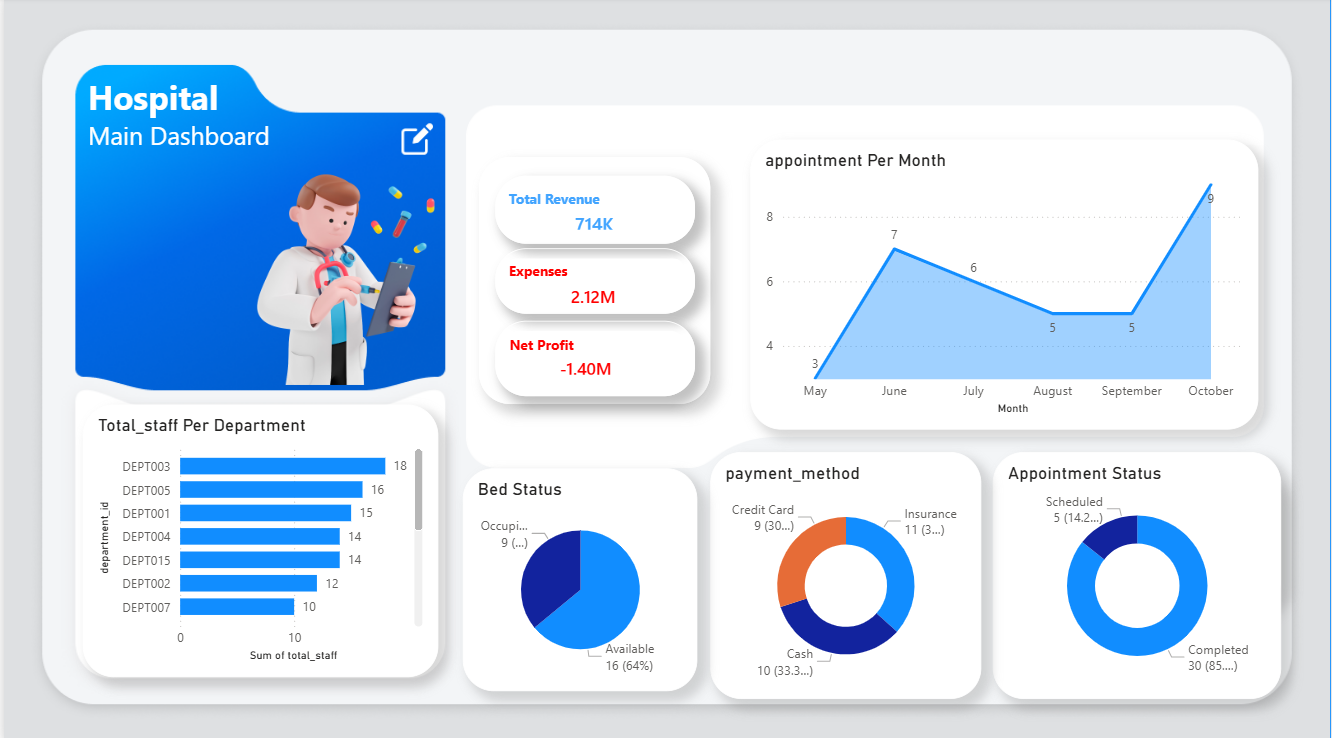

What the dashboard file says about the page in this screenshot:
{"tool":"powerbi","page":{"name":"Main","canvas":[1280,720],"ordinal":0},"visuals":[{"type":"textbox","box":[75.5,70,273.1,96.1],"z":0},{"type":"image","box":[378.7,122.1,39.8,30.2],"z":1000},{"type":"image","box":[183,159,299,215],"z":2000},{"type":"cardVisual","fields":{"Data":["Sum(patients.total_amount)"]},"box":[994.3,454.3,238.6,138.6],"z":4000},{"type":"donutChart","title":"Appointment Status","fields":{"Y":["CountNonNull(Appointment.status)"],"Category":["Appointment.status"]},"box":[954.3,438.6,278.6,238.6],"z":5000},{"type":"donutChart","title":"payment_method","fields":{"Category":["Appointment.payment_method"],"Y":["CountNonNull(Appointment.payment_method)"]},"box":[681.4,438.6,261.4,238.6],"z":6000},{"type":"areaChart","title":"appointment Per Month","fields":{"Y":["CountNonNull(Appointment.appointment_id)"],"Category":["Appointment.appointment_date.Variation.Date Hierarchy.Month"]},"box":[720,137.1,490,280],"z":7000},{"type":"barChart","title":"Total_staff Per Department","fields":{"Category":["Departments.department_id"],"Y":["Sum(Departments.total_staff)"]},"box":[75.7,392.9,342.9,262.9],"z":8000},{"type":"pieChart","title":"Bed Status","fields":{"Category":["Beds.status"],"Y":["CountNonNull(Beds.bed_id)"]},"box":[443,454.7,226.7,215.1],"z":9000},{"type":"group","id":"g1","title":"Revenue","box":[458.2,154.3,222.9,238.6],"z":10000},{"type":"shape","box":[458.2,154.3,222.9,238.6],"z":13000,"group":"g1"},{"type":"shape","box":[473.9,172.9,192.9,65.7],"z":14000,"group":"g1"},{"type":"shape","box":[473.9,242.9,192.9,62.9],"z":15000,"group":"g1"},{"type":"shape","box":[473.9,312.9,192.9,72.9],"z":16000,"group":"g1"},{"type":"cardVisual","fields":{"Data":["Bills.Total Revenue"]},"box":[482.5,191.4,174.3,50],"z":17000,"group":"g1"},{"type":"cardVisual","fields":{"Data":["Bills.Total Spend"]},"box":[481.1,262.9,174.3,50],"z":18000,"group":"g1"},{"type":"cardVisual","fields":{"Data":["Bills.Net Profit"]},"box":[473.9,331.4,174.3,50],"z":19000,"group":"g1"}]}

Visuals, with their boxes in screenshot pixels (x1, y1, x2, y2), scaled from the page's 1280x720 canvas onto the 1332x738 screenshot:
textbox: 79/72/363/170
image: 394/125/436/156
image: 190/163/502/383
cardVisual - Sum(patients.total_amount): 1035/466/1283/608
"Appointment Status" donutChart: 993/450/1283/694
"payment_method" donutChart: 709/450/981/694
"appointment Per Month" areaChart: 749/141/1259/428
"Total_staff Per Department" barChart: 79/403/436/672
"Bed Status" pieChart: 461/466/697/687
"Revenue" group: 477/158/709/403
shape: 477/158/709/403
shape: 493/177/694/245
shape: 493/249/694/313
shape: 493/321/694/395
cardVisual - Bills.Total Revenue: 502/196/683/247
cardVisual - Bills.Total Spend: 501/269/682/321
cardVisual - Bills.Net Profit: 493/340/675/391
